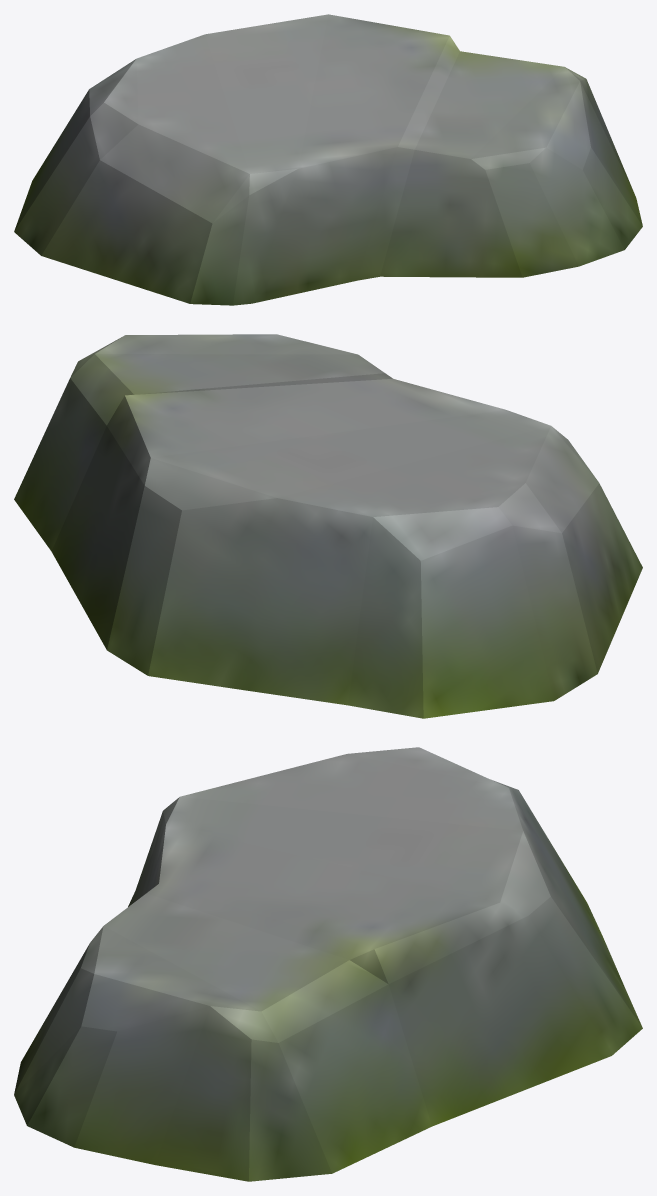
The model's file is sn_pebble_round_5.glb.
3 views of the same model, one above another, from view 1: azimuth 30°, elevation 25°; view 2: azimuth 150°, elevation 25°; view 3: azimuth 270°, elevation 25° (orthographic). The views are drawn at different scales.
Parts seen in each view (by area): view 1: Pebble_Round_5; view 2: Pebble_Round_5; view 3: Pebble_Round_5.
Part boxes in pixels (x1,y1,x2,y2): Pebble_Round_5: [14, 14, 642, 305]; Pebble_Round_5: [14, 334, 642, 718]; Pebble_Round_5: [14, 747, 642, 1181].
Bounding box in the file's own units: 0.4186 × 0.1008 × 0.3463.
Materials: 1 (1 with a texture image).
